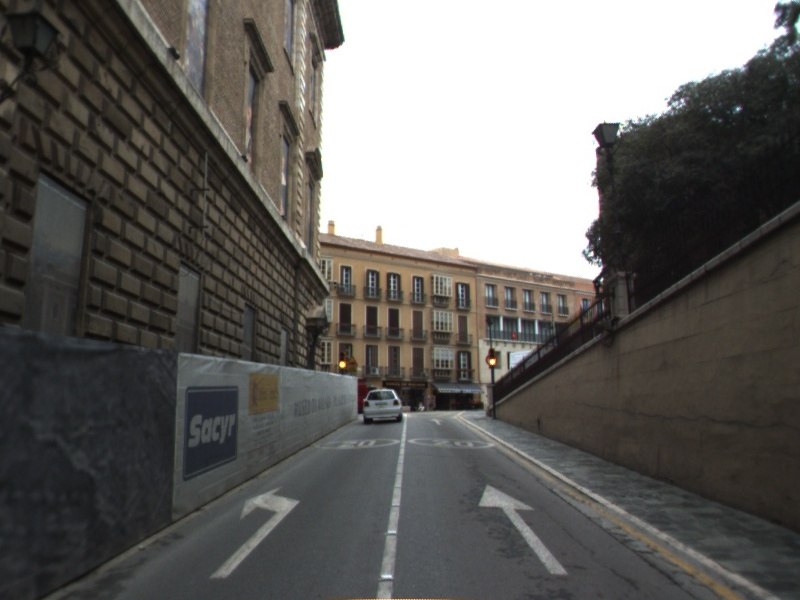LEFT: (207, 485, 301, 580)
STRAIGHT: (476, 482, 569, 576), (427, 416, 445, 426)
